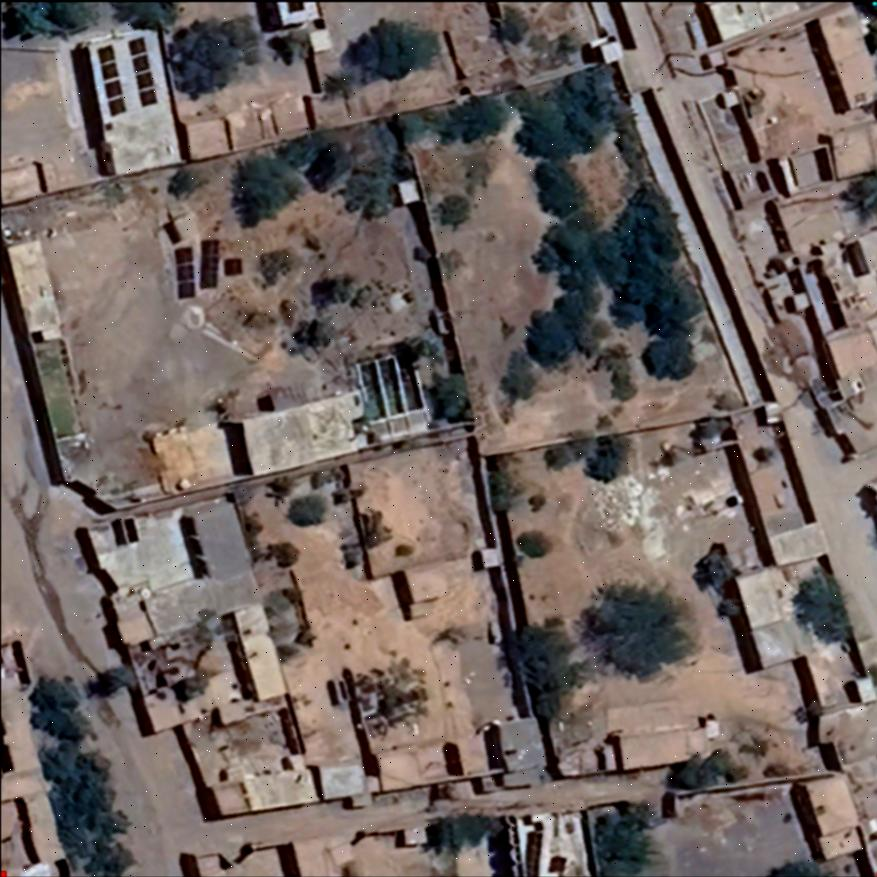Solarpanel: (90, 35, 131, 123), (122, 32, 162, 109), (168, 240, 198, 305), (196, 230, 222, 294), (216, 250, 243, 280)
